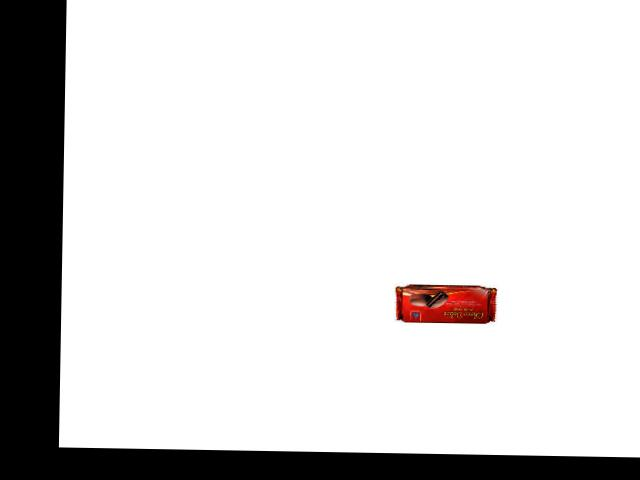chocolate: (393, 275, 497, 324)
